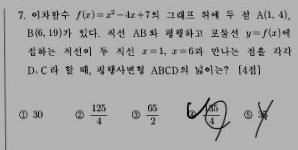choice: (185, 105, 198, 120)
not-choice: (74, 109, 85, 121), (17, 109, 28, 120), (130, 109, 141, 120), (242, 109, 253, 120)
